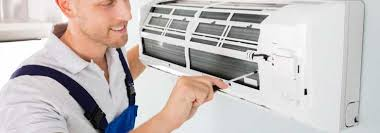ac: (132, 1, 362, 131)
